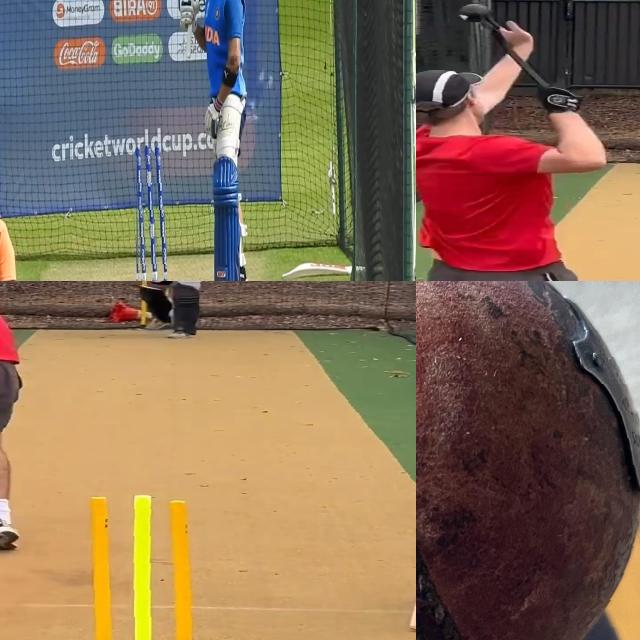Cricket ball: (416, 281, 640, 640)
Stumps: (68, 495, 202, 640), (132, 141, 167, 281)
